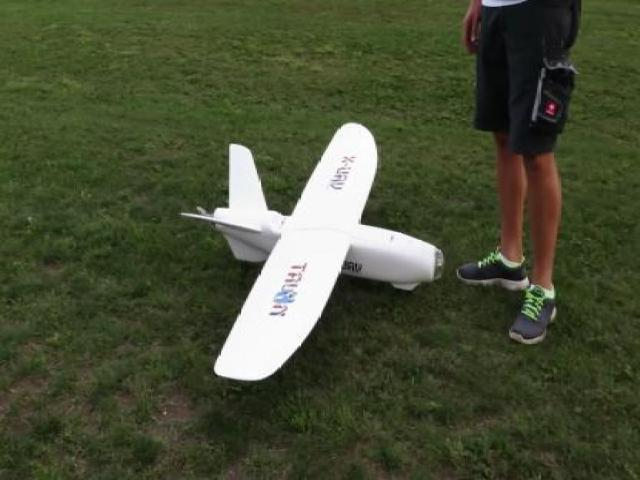uav: (181, 120, 447, 384)
